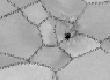good_void: (64, 32, 72, 41)
